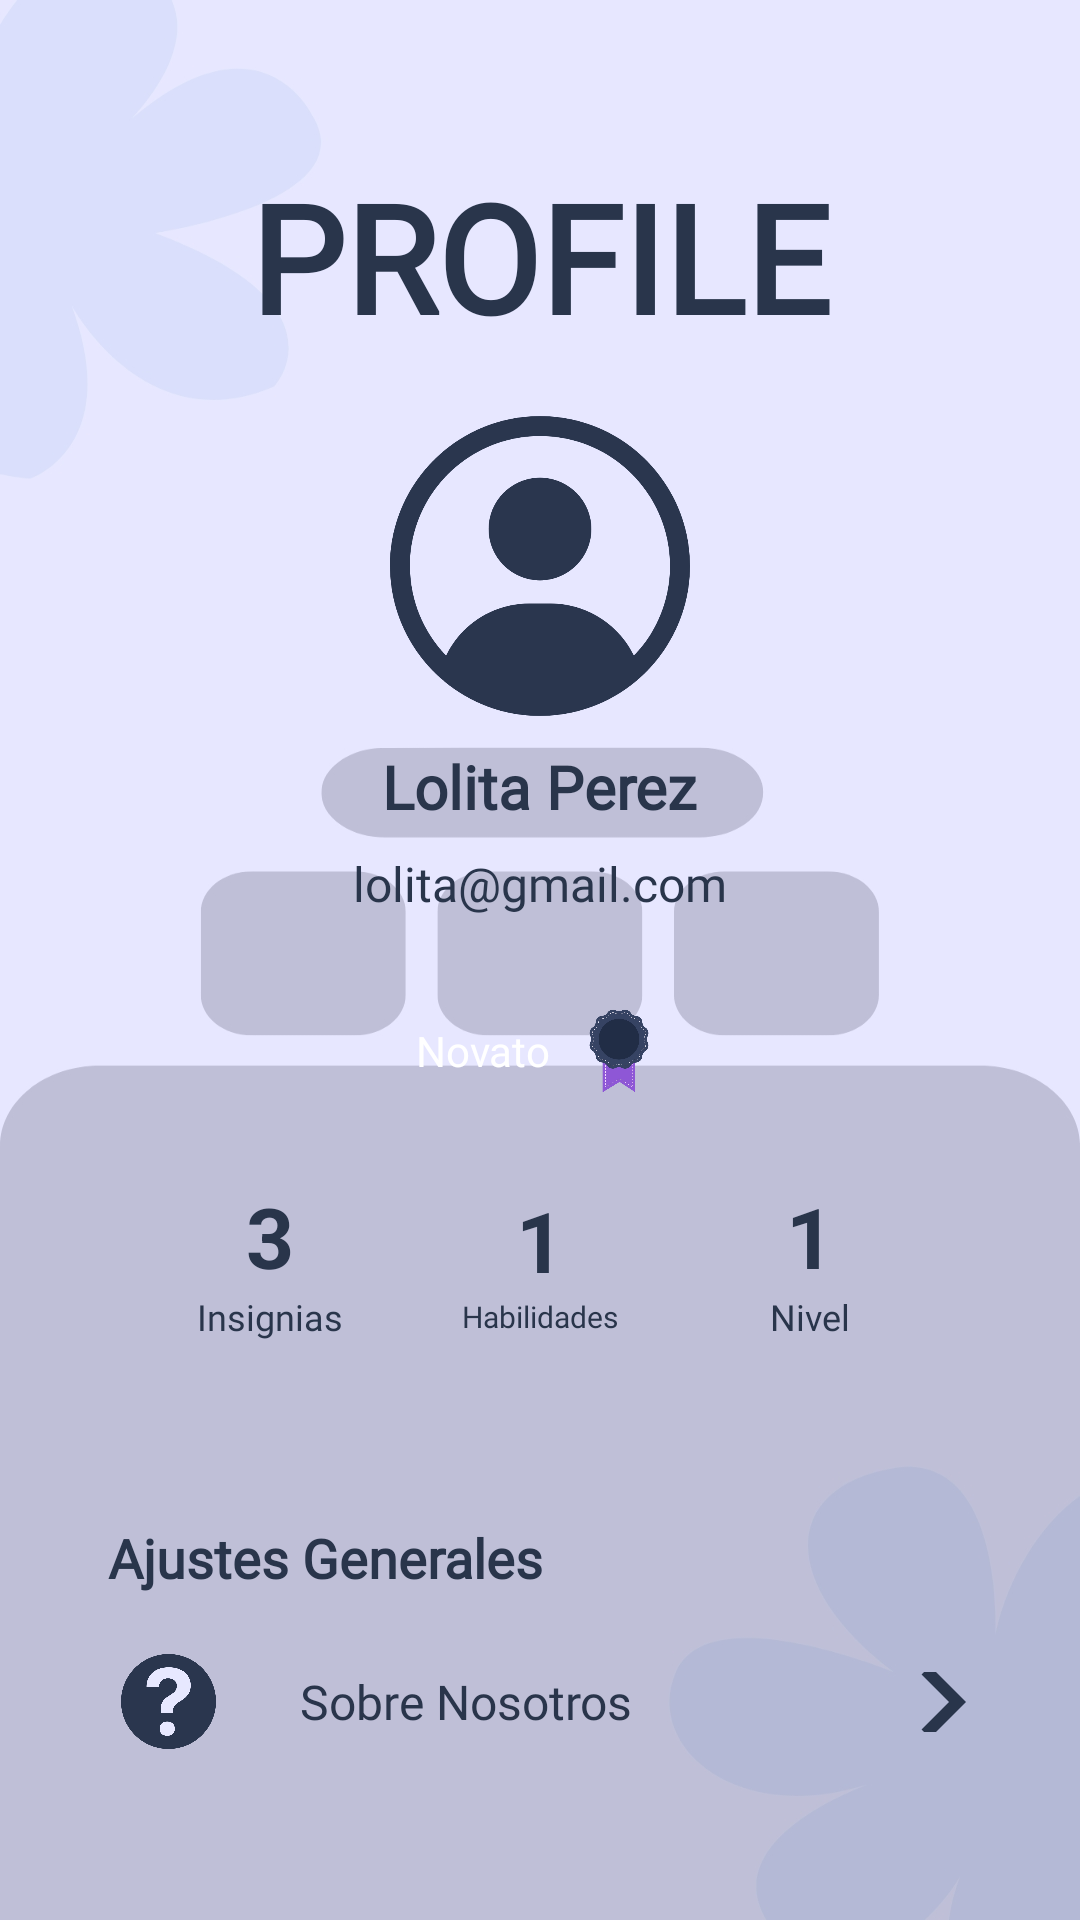

Screen size 1080x1920. Icon name, then its box in pixels as (x1, y1, x2, y2):
signo: (121, 1654, 216, 1749)
